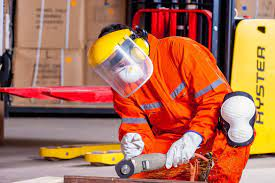gloves: (167, 130, 207, 170)
